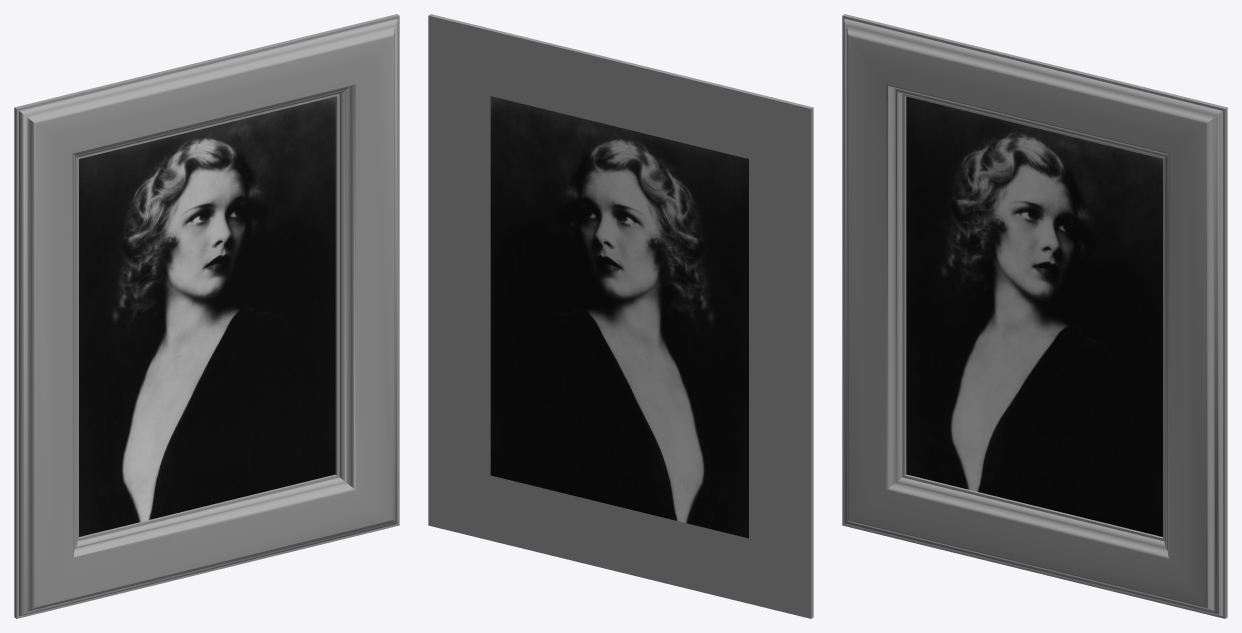
File: Frame01.FBX
3 views of the same model, side by side, from view 1: azimuth 30°, elevation 25°; view 2: azimuth 150°, elevation 25°; view 3: azimuth 330°, elevation 25° (orthographic).
Parts seen in each view (by area): view 1: M_Frame01; view 2: M_Frame01; view 3: M_Frame01.
Part boxes in pixels (<box>): M_Frame01: <box>14,14,399,618</box>; M_Frame01: <box>428,14,813,618</box>; M_Frame01: <box>842,14,1227,618</box>.
Size of the model in its own units: 130 by 166 by 4.88.
